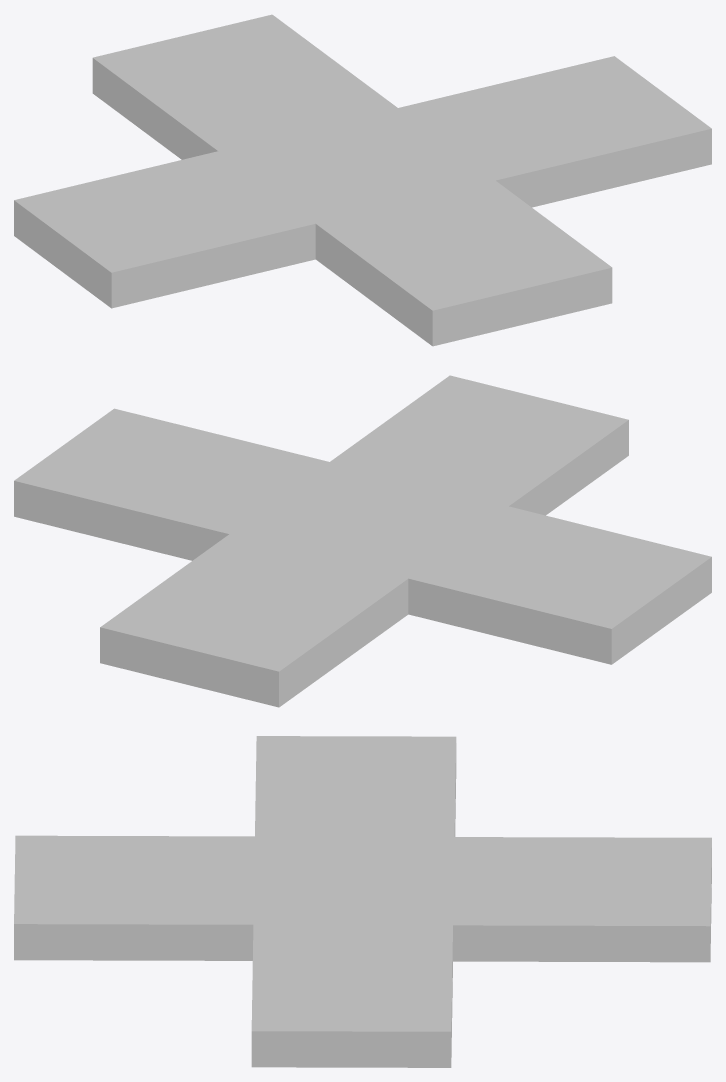
File: CrossLight_On.glb
The picture shows the model from 3 angles, top to bottom: view 1: azimuth 30°, elevation 25°; view 2: azimuth 150°, elevation 25°; view 3: azimuth 270°, elevation 25°; orthographic projection.
Parts seen in each view (by area): view 1: crossLight_on; view 2: crossLight_on; view 3: crossLight_on.
Boxes of the visible parts, <box> form: crossLight_on: <box>14,14,711,346</box>; crossLight_on: <box>14,375,711,707</box>; crossLight_on: <box>14,736,711,1067</box>.
Size of the model in its own units: 1.06 by 0.0607 by 1.06.
1 material, 1 textured.
